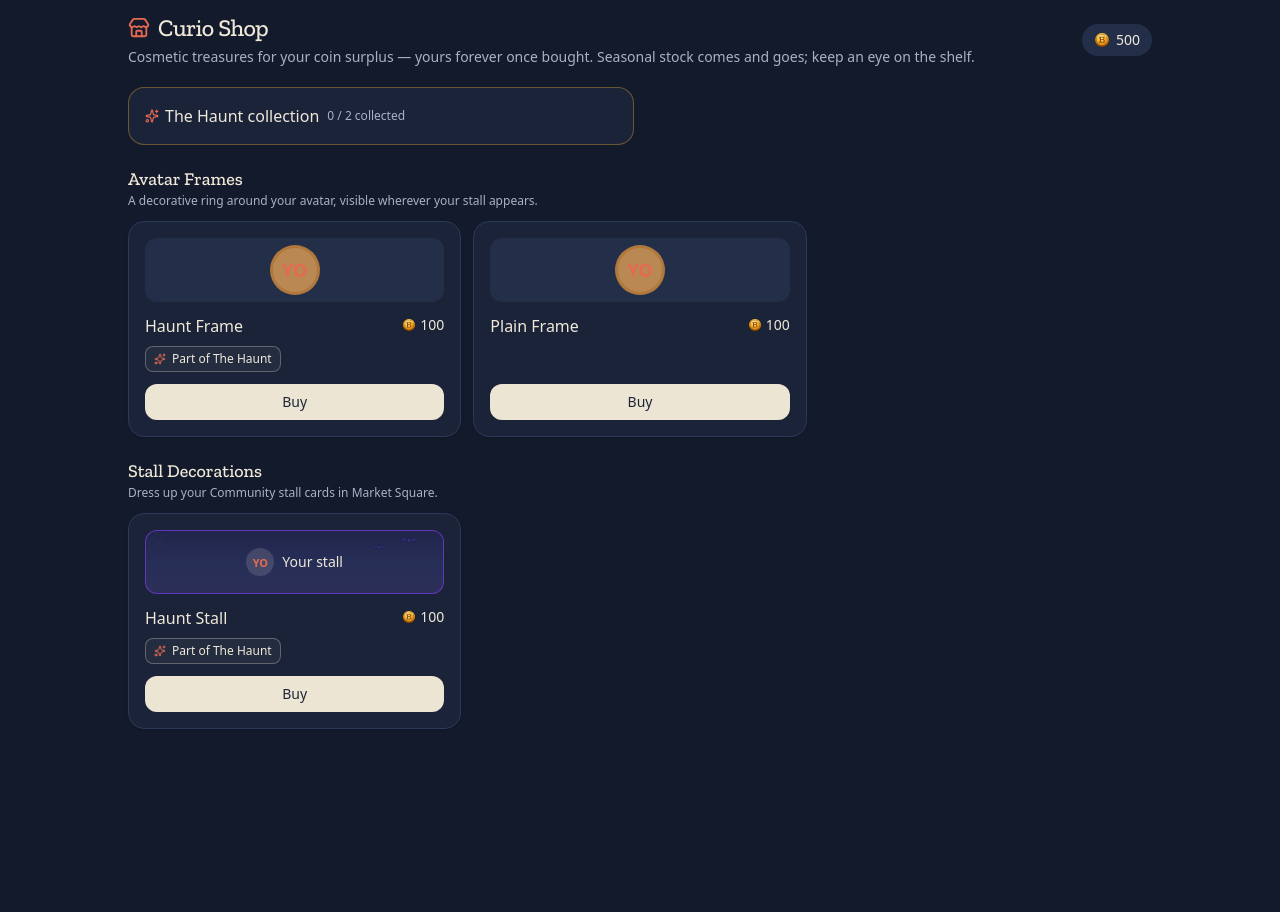
ShopPage storefront › narrows the shelves to a collection's pieces when you tap it (issue a1cce36f)
Click the button "The Haunt collection 0 / 2 collected" at x=381, y=116, box x1=128 y1=87 x2=634 y2=145
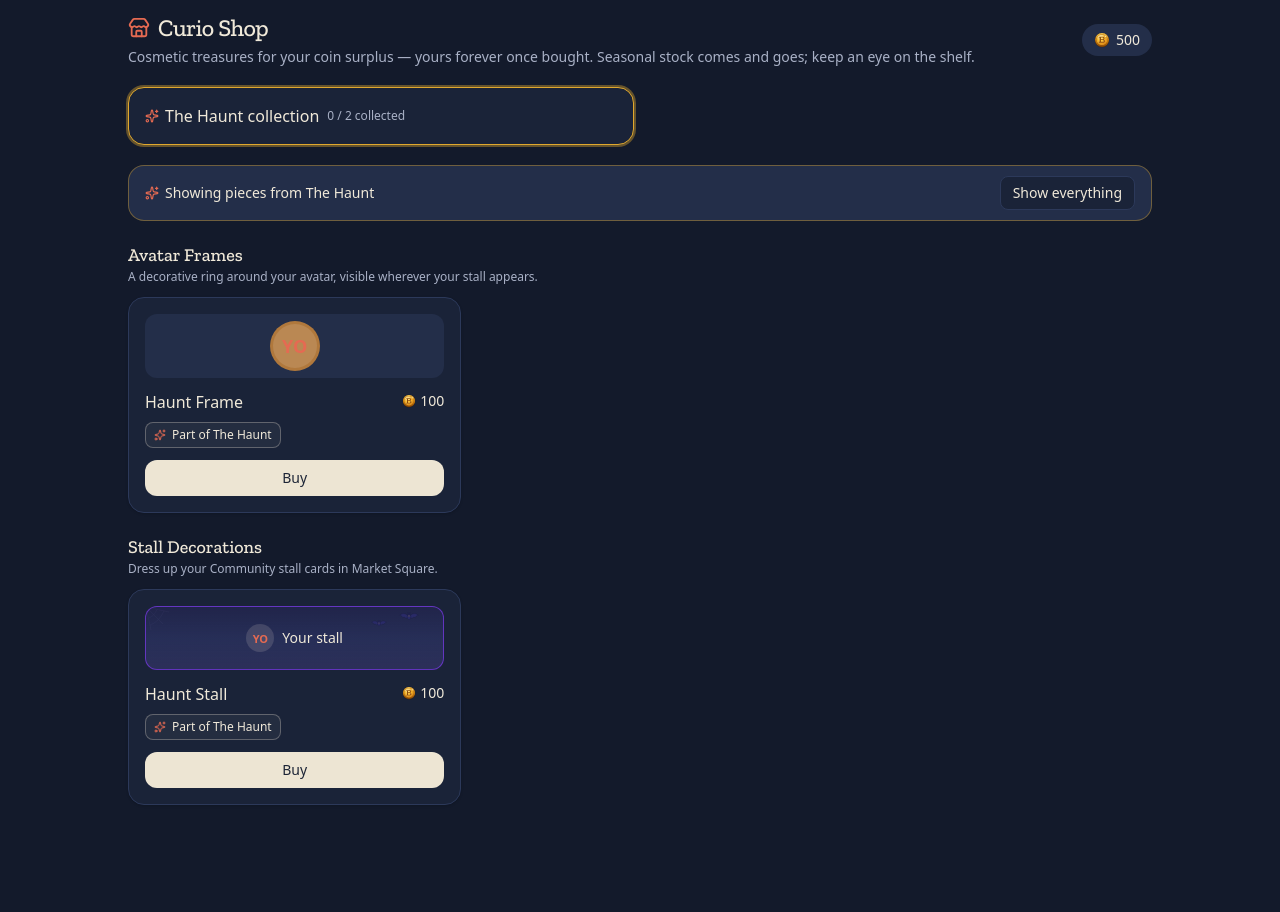
Expected: the text "Haunt Frame" is shown, x1=145 y1=390 x2=243 y2=414
Now the text "Showing pieces from The Haunt" is shown, box x1=145 y1=183 x2=374 y2=203
Now the text "Plain Frame" is gone
Click the button "Show everything" at x=1067, y=193, box x1=1000 y1=176 x2=1135 y2=210
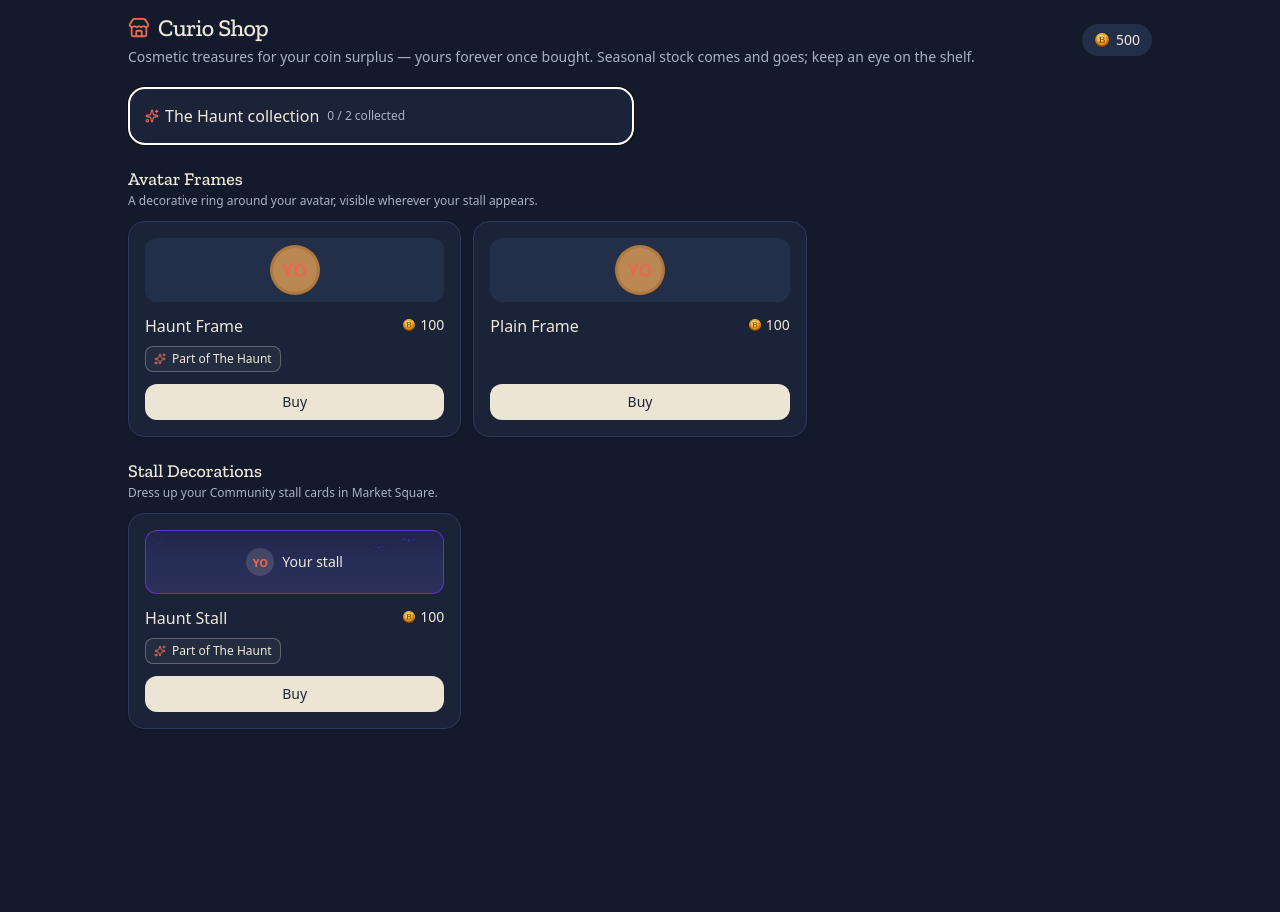
Now the text "Plain Frame" is shown, box x1=490 y1=314 x2=579 y2=338
